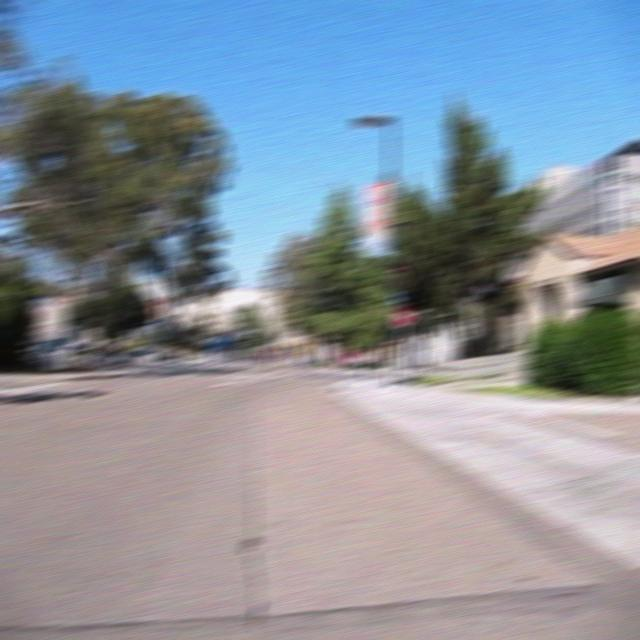stop_sign: (391, 302, 416, 326)
